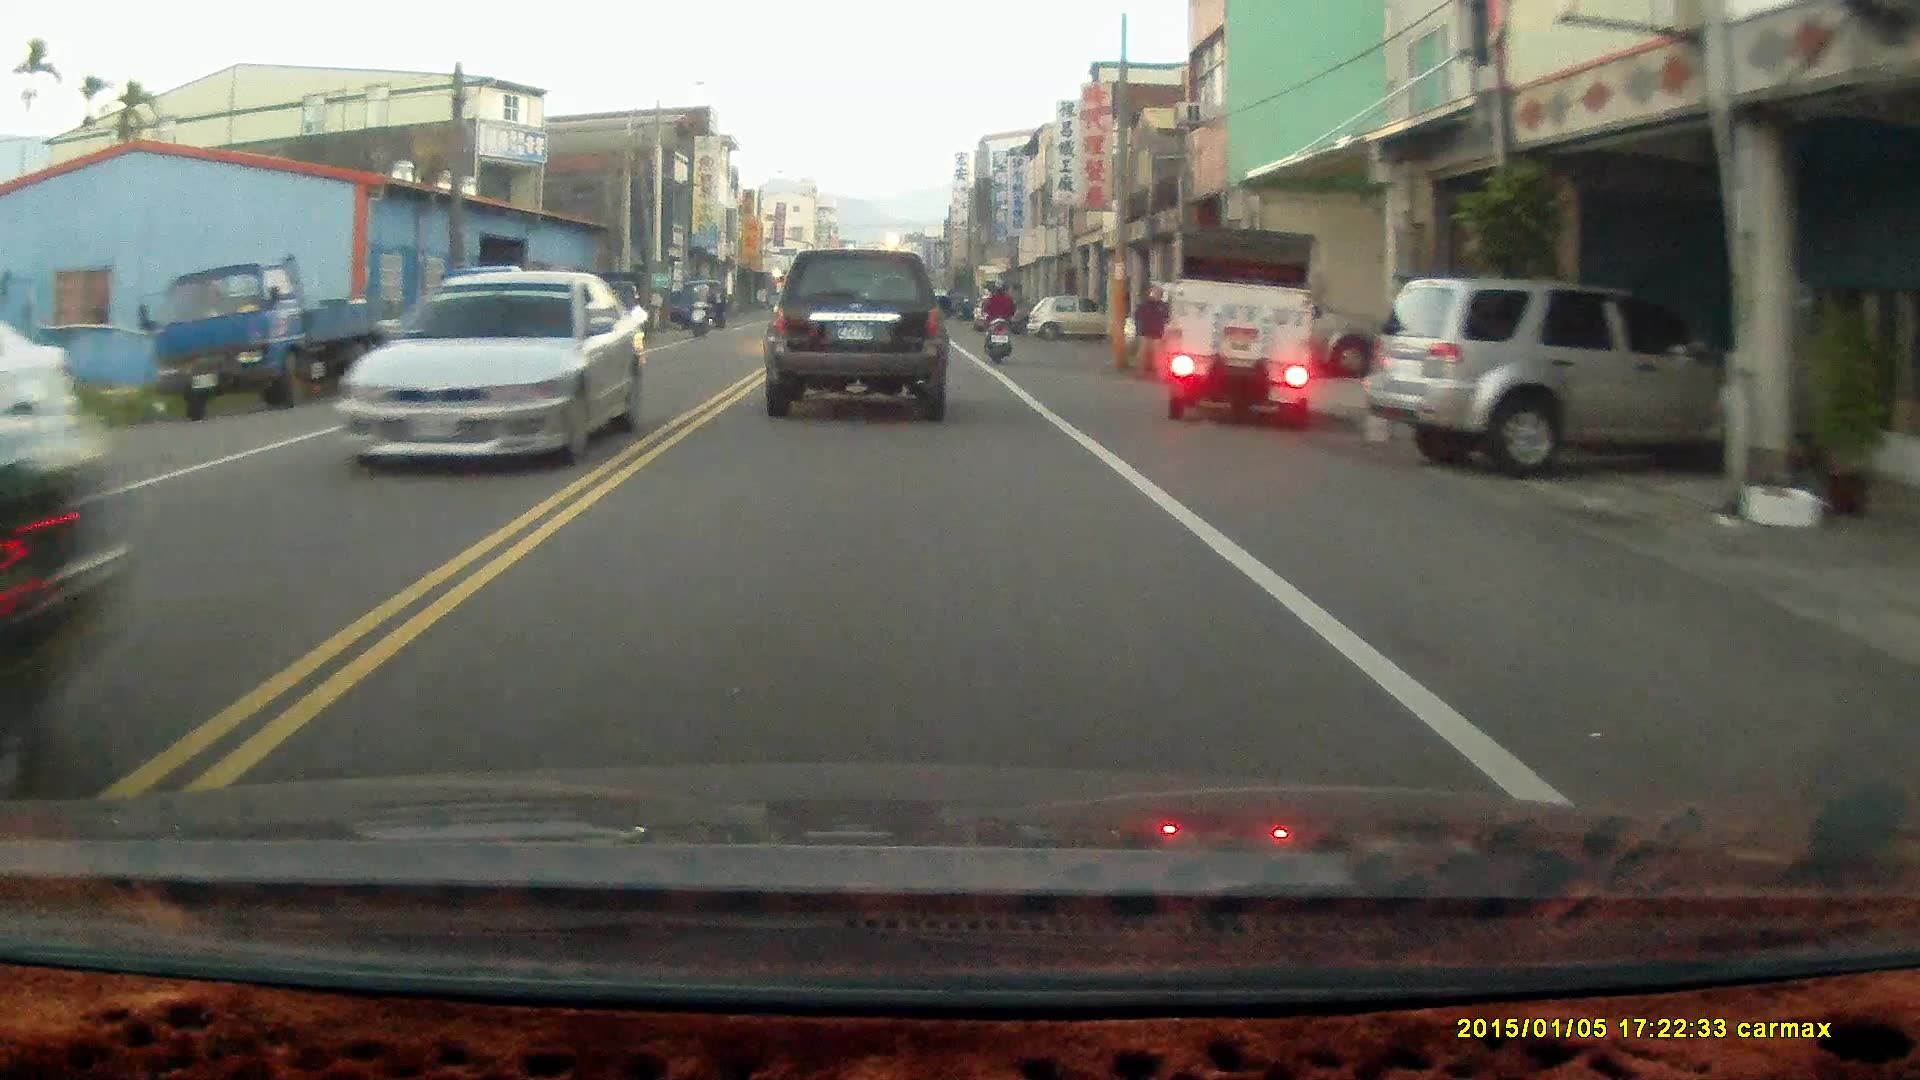pedestrian: (1130, 286, 1169, 384), (707, 282, 727, 330)
rider: (979, 280, 1015, 367), (687, 278, 717, 342)
vehicle: (1374, 279, 1755, 478), (1, 270, 136, 799), (332, 271, 642, 473), (152, 254, 381, 418), (766, 251, 952, 427), (1164, 228, 1322, 428), (1117, 277, 1377, 385), (1031, 298, 1106, 351)
